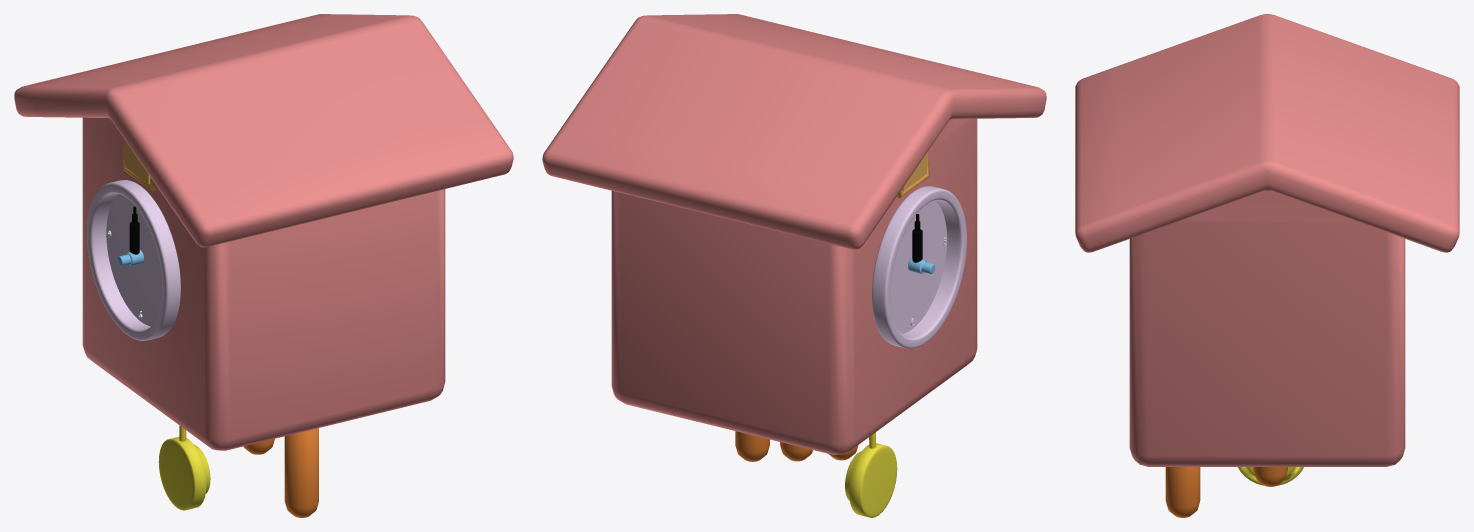
File: clock.glb
The picture shows the model from 3 angles, left to right: view 1: azimuth 30°, elevation 25°; view 2: azimuth 150°, elevation 25°; view 3: azimuth 270°, elevation 25°; orthographic projection.
Parts seen in each view (by area): view 1: Clock roof, Clock body, Clock frame, Clock pendulum, Clock decoration.001; view 2: Clock roof, Clock body, Clock frame, Clock pendulum, Clock decoration.004; view 3: Clock body, Clock roof, Clock decoration.001, Clock decoration.003.
Part boxes in pixels (x1=…): Clock roof: x1=14, y1=14, x2=513, y2=247; Clock body: x1=82, y1=117, x2=445, y2=450; Clock frame: x1=87, y1=180, x2=180, y2=340; Clock pendulum: x1=158, y1=437, x2=210, y2=510; Clock decoration.001: x1=284, y1=428, x2=318, y2=517; Clock roof: x1=542, y1=14, x2=1046, y2=249; Clock body: x1=611, y1=118, x2=977, y2=454; Clock frame: x1=872, y1=186, x2=966, y2=348; Clock pendulum: x1=845, y1=443, x2=897, y2=517; Clock decoration.004: x1=735, y1=431, x2=769, y2=461; Clock body: x1=1129, y1=191, x2=1405, y2=466; Clock roof: x1=1075, y1=14, x2=1459, y2=252; Clock decoration.001: x1=1165, y1=467, x2=1200, y2=517; Clock decoration.003: x1=1253, y1=467, x2=1287, y2=486.
Bounding box in the file's own units: 2.64 × 3.48 × 2.79.
